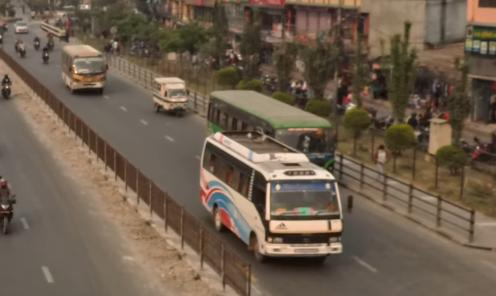bus: (199, 128, 357, 271)
